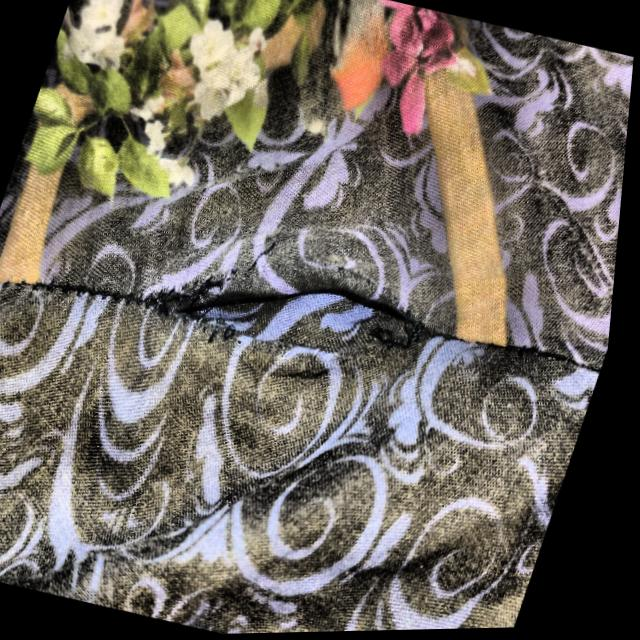seam: (121, 193, 499, 431)
